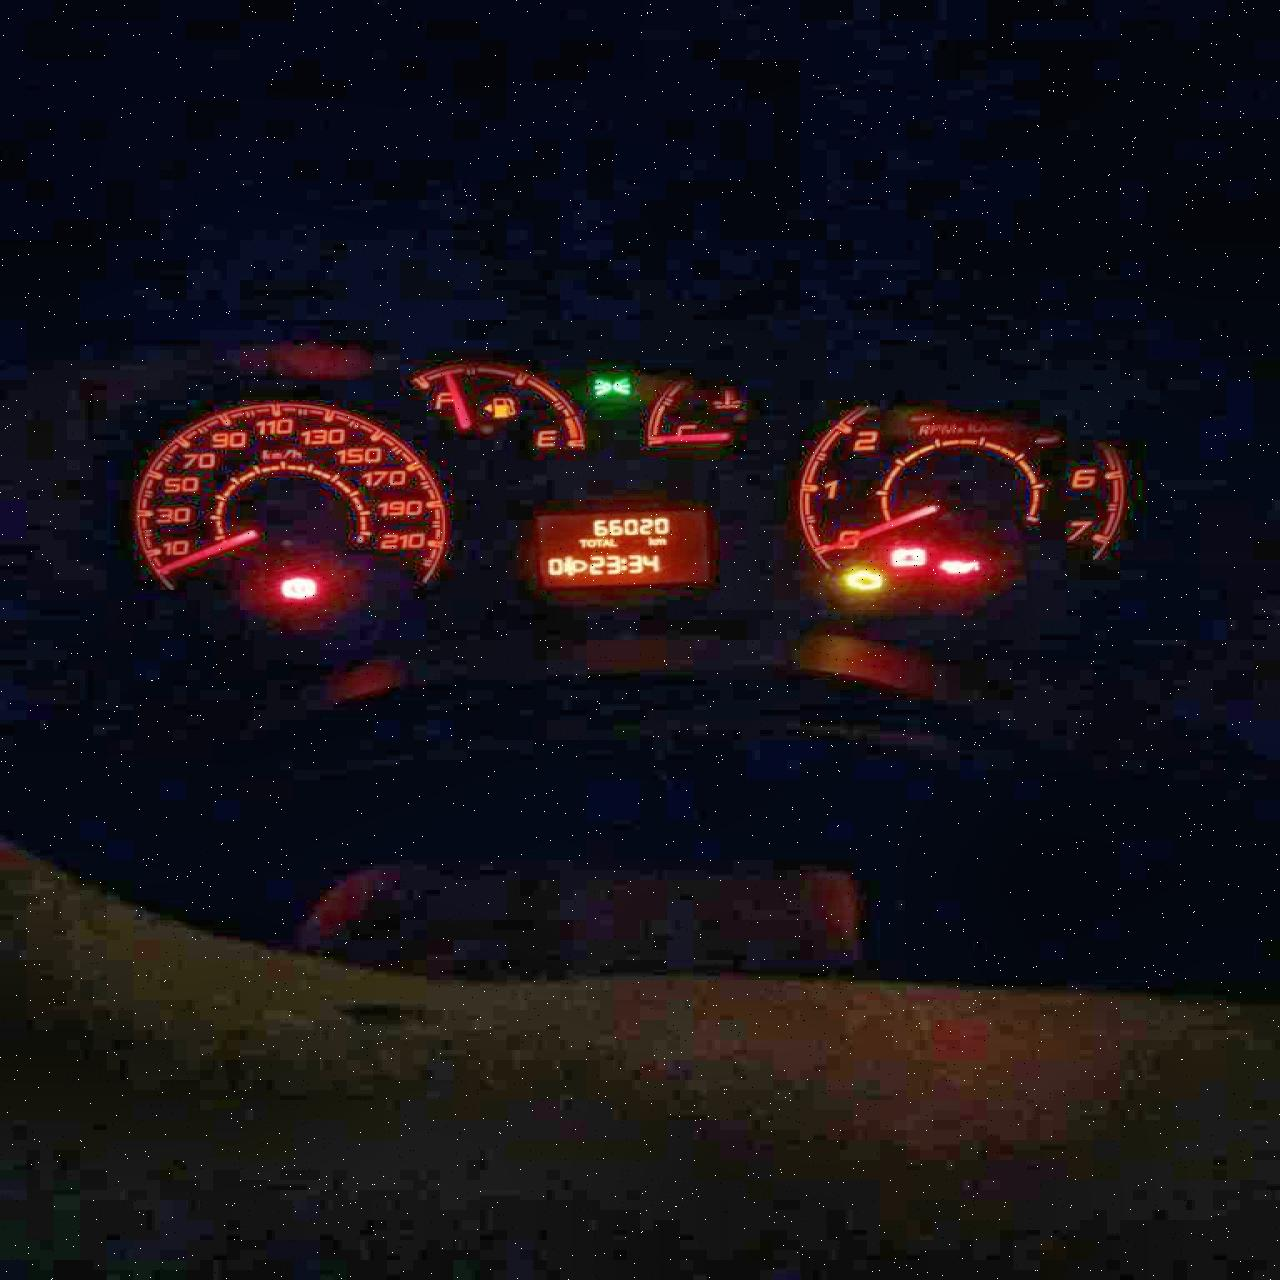0: (546, 556, 561, 576), (654, 516, 668, 533), (624, 517, 636, 535)
2: (587, 554, 604, 576), (636, 516, 652, 535)
3: (604, 553, 619, 576), (626, 551, 641, 572)
4: (641, 552, 660, 572)
6: (592, 517, 606, 537), (606, 517, 621, 535)
X: (606, 536, 617, 546), (655, 536, 667, 545), (620, 557, 627, 572), (585, 538, 595, 547), (647, 535, 655, 546), (577, 537, 585, 547), (601, 538, 608, 547), (595, 538, 601, 547)
odometer: (525, 504, 720, 590)
